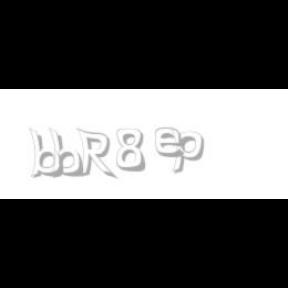8: (116, 128, 146, 172)
R: (76, 128, 114, 180)
b: (29, 128, 67, 178), (49, 128, 87, 178)
e: (156, 128, 188, 158)
p: (170, 128, 208, 174)
